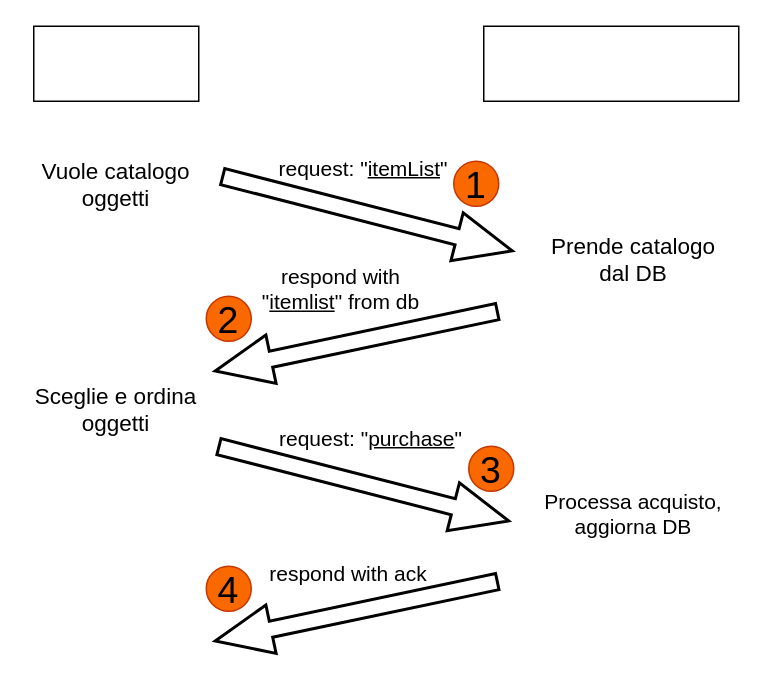
This 765x681 diagram has some shape labels left out. Each missing label, with the centre of its shape:
"Cliente" goes at (x=115, y=63).
"ServerCliente" goes at (x=610, y=63).
